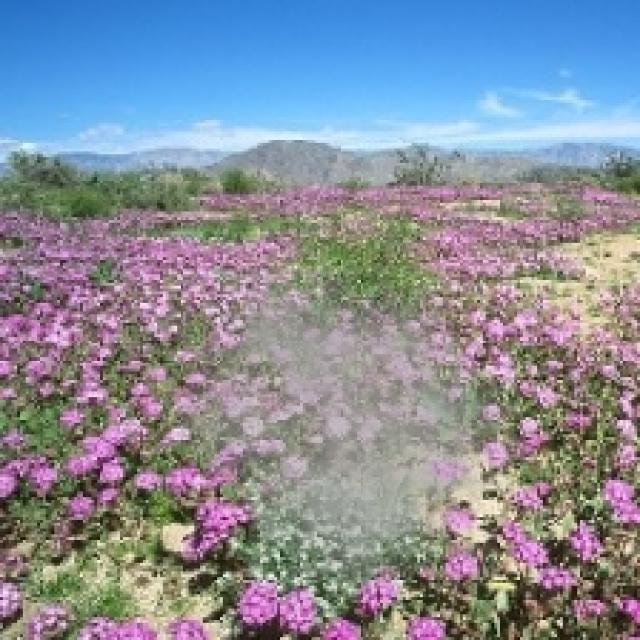Smoke: (151, 268, 540, 626)
